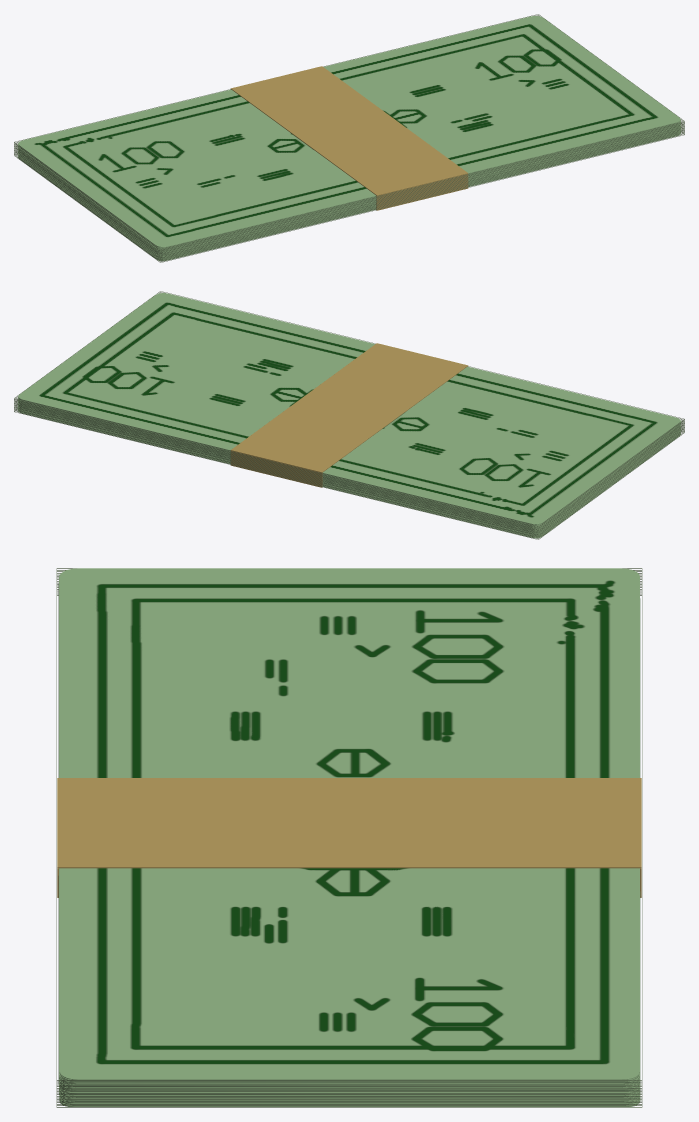
Rendered from SM_Prop05_Billete_Santiago_Garcia.fbx.
3 views of the same model, one above another, from view 1: azimuth 30°, elevation 25°; view 2: azimuth 150°, elevation 25°; view 3: azimuth 270°, elevation 25° (orthographic). The views are drawn at different scales.
Visible parts, largest first — view 1: SM_Prop05_Billete_Santiago_Garcia; view 2: SM_Prop05_Billete_Santiago_Garcia; view 3: SM_Prop05_Billete_Santiago_Garcia.
Boxes of the visible parts, x1,y1,x2,y2 form: SM_Prop05_Billete_Santiago_Garcia: [14, 14, 684, 262]; SM_Prop05_Billete_Santiago_Garcia: [14, 291, 684, 539]; SM_Prop05_Billete_Santiago_Garcia: [56, 568, 642, 1107].
Size of the model in its own units: 2.76 by 0.0784 by 1.33.
4 materials, 3 textured.
